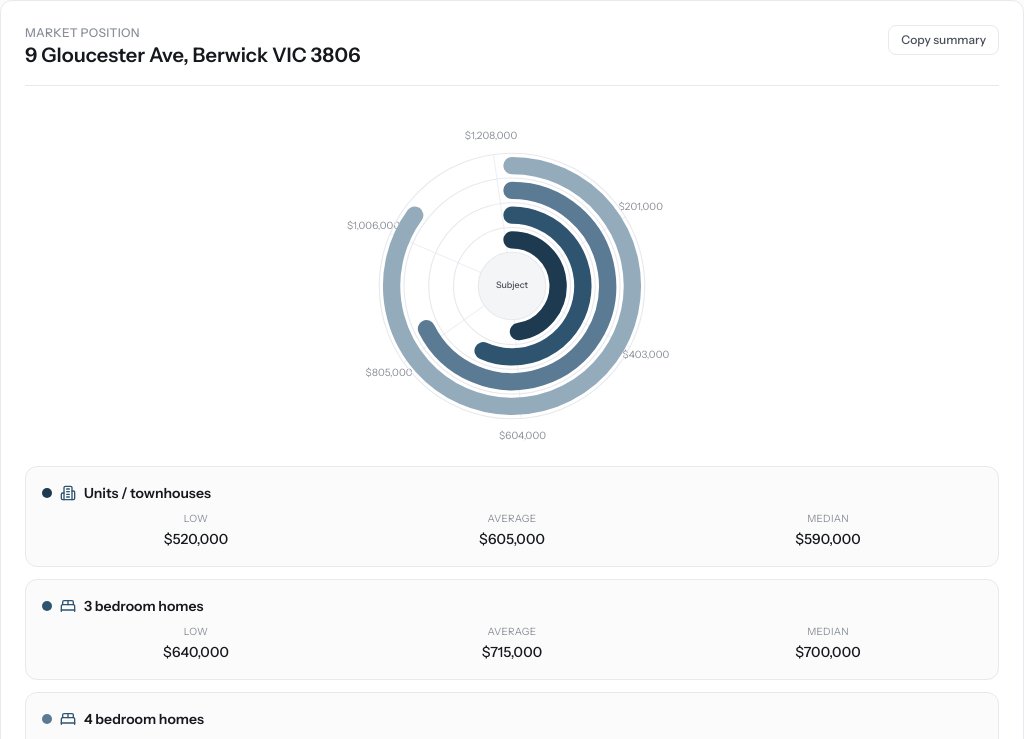
Test: QuadrantChart inline editing (event bubbling regression) › blurring an empty address reverts to the last valid value
Click the button with aria-label "Edit target property address": (193, 55) [17,41,368,69]
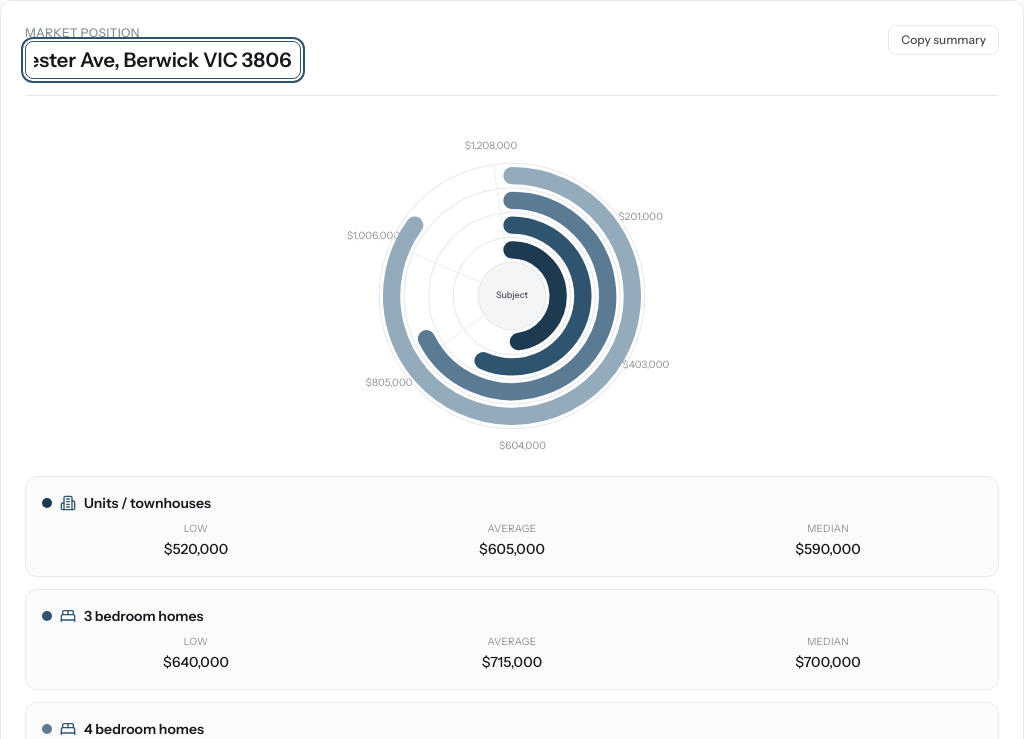
Clear the field named "target property address": (163, 60) [25,41,301,79]
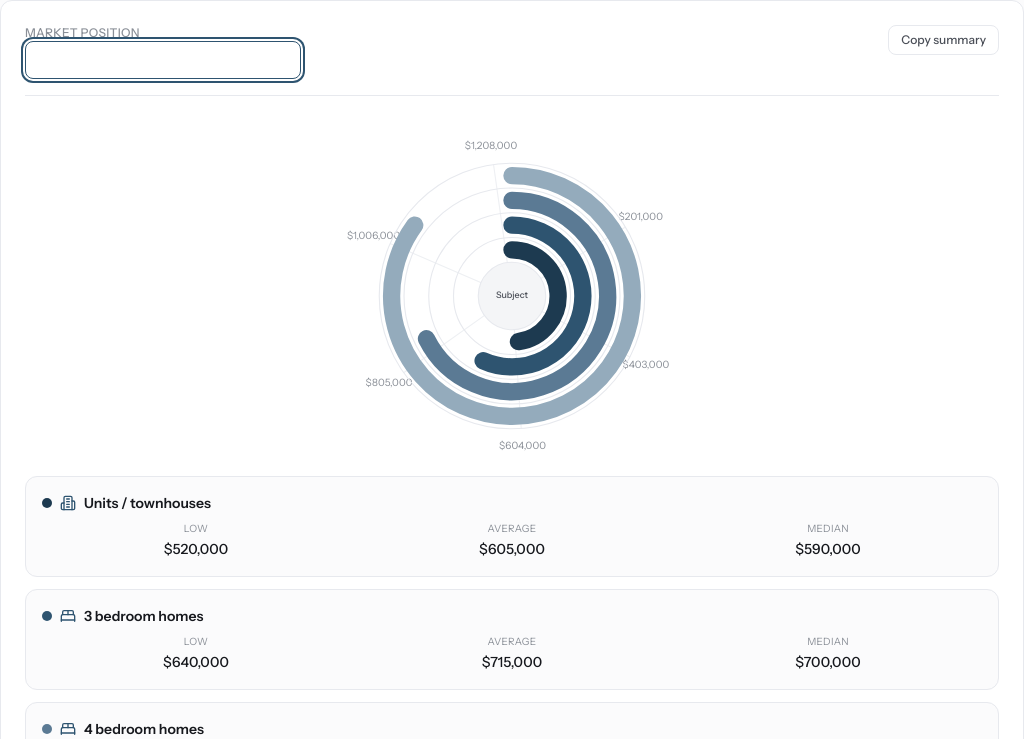
Leave the field named "target property address", box [25,41,301,79]
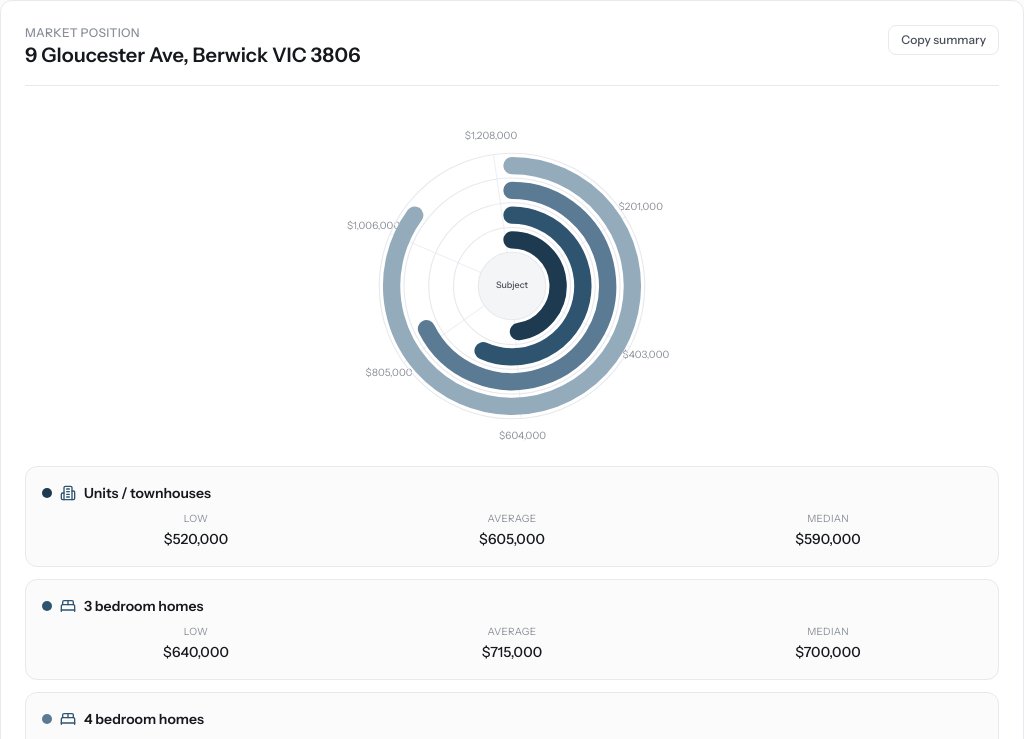
Expected: the button "9 Gloucester Ave, Berwick VIC 3806" is shown, [17,41,368,69]
